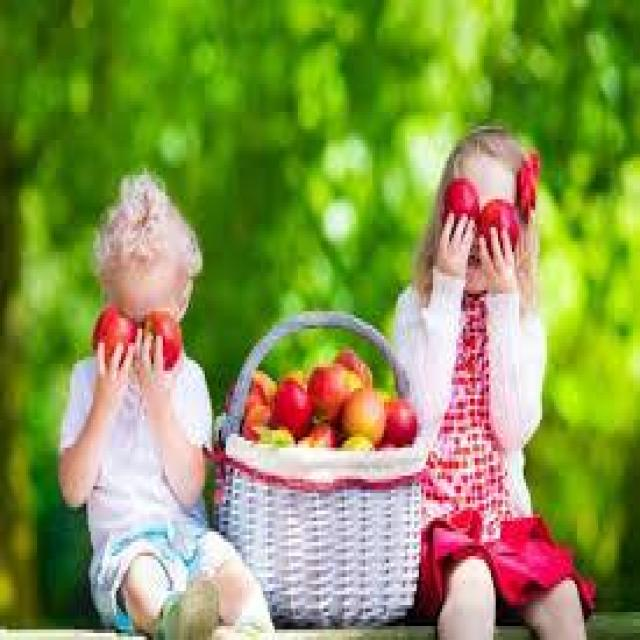apple: (93, 315, 133, 367), (354, 388, 391, 441), (144, 314, 179, 370), (274, 381, 310, 430), (321, 363, 354, 412), (489, 210, 521, 252), (452, 189, 479, 234), (346, 346, 374, 381), (310, 430, 354, 451), (396, 398, 416, 441), (288, 367, 302, 374)
